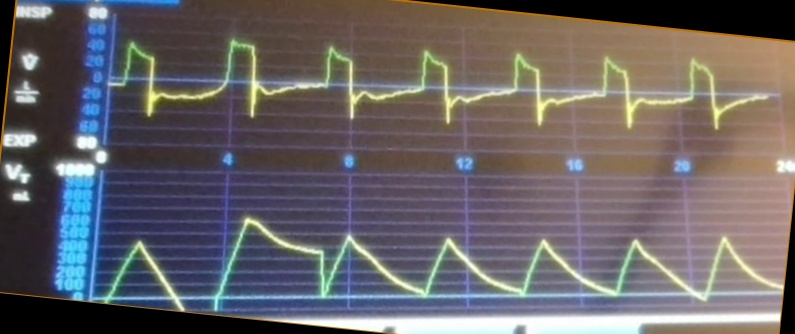Premature_cycling Flow: (116, 36, 766, 141)
Premature_cycling Volume: (101, 213, 780, 310)
